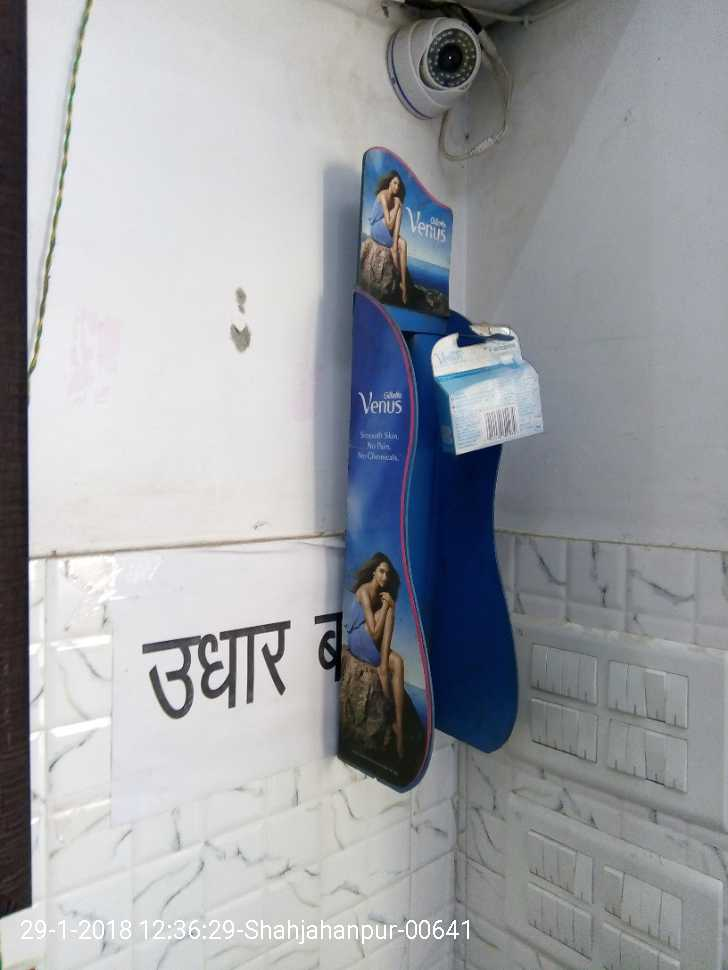reject: (162, 406, 222, 457)
